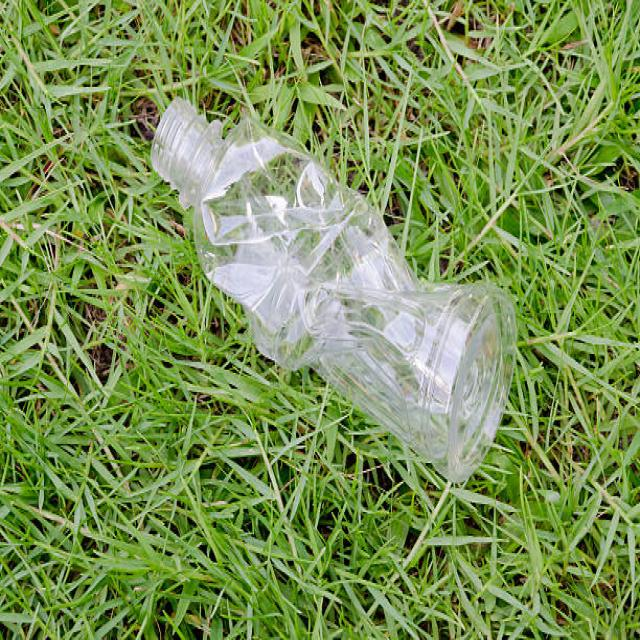plastic: (157, 103, 514, 480)
